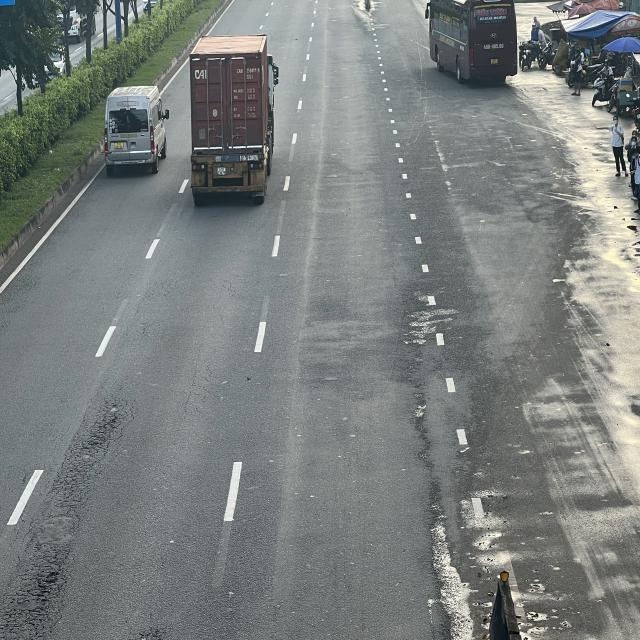coach: (427, 2, 520, 86)
container: (190, 37, 280, 207)
van: (102, 87, 170, 177)
